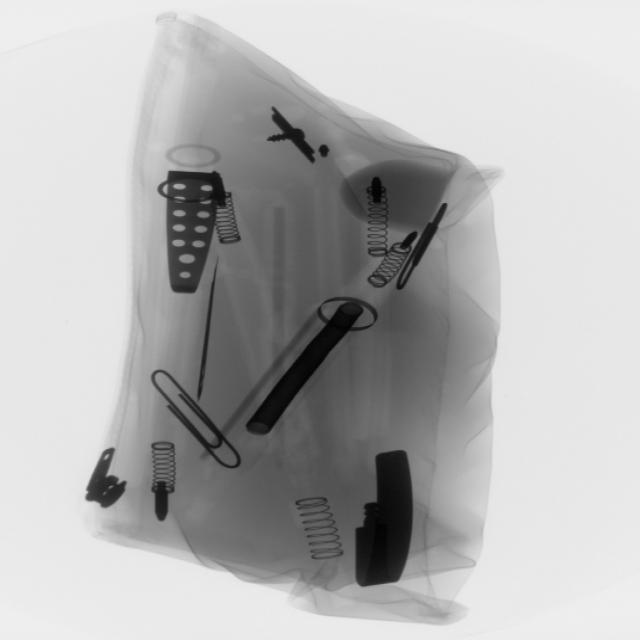SHURIKEN: (195, 265, 219, 406)
